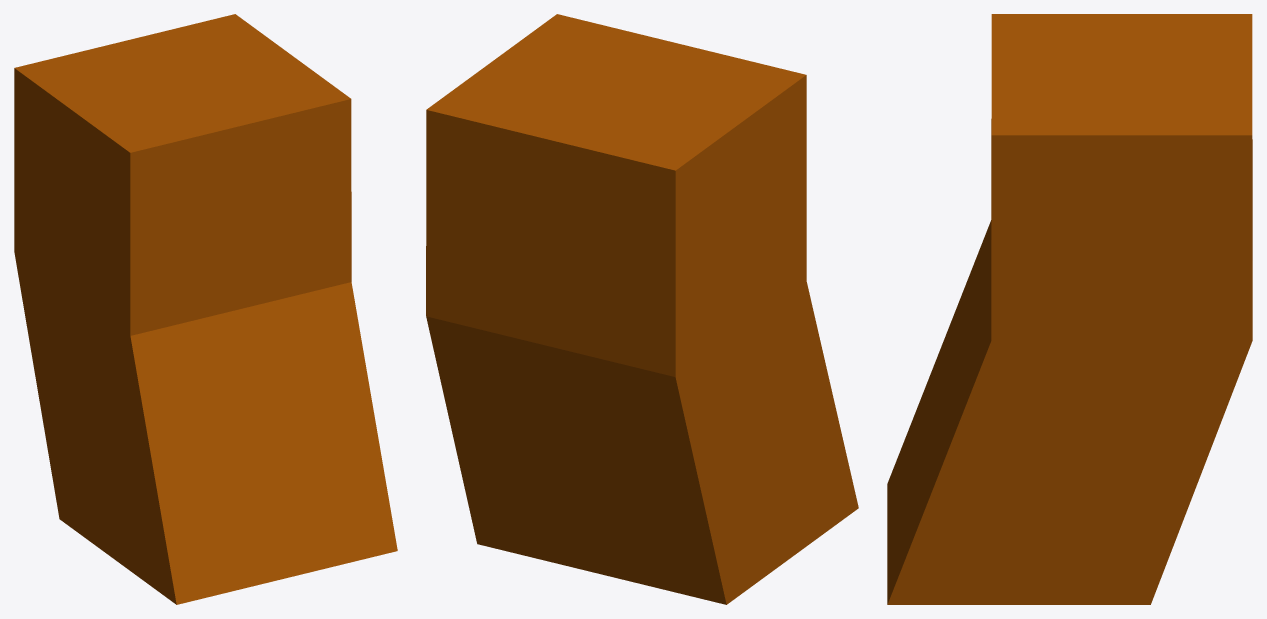
Rendered from robotbody.fbx.
The picture shows the model from 3 angles, left to right: view 1: azimuth 30°, elevation 25°; view 2: azimuth 150°, elevation 25°; view 3: azimuth 270°, elevation 25°; orthographic projection. The views are drawn at different scales.
Visible parts, largest first — view 1: Cube; view 2: Cube; view 3: Cube.
Boxes of the visible parts, x1=… form: Cube: x1=14, y1=14, x2=397, y2=604; Cube: x1=426, y1=14, x2=858, y2=604; Cube: x1=887, y1=14, x2=1252, y2=604.
Size of the model in its own units: 242 by 438 by 308.
